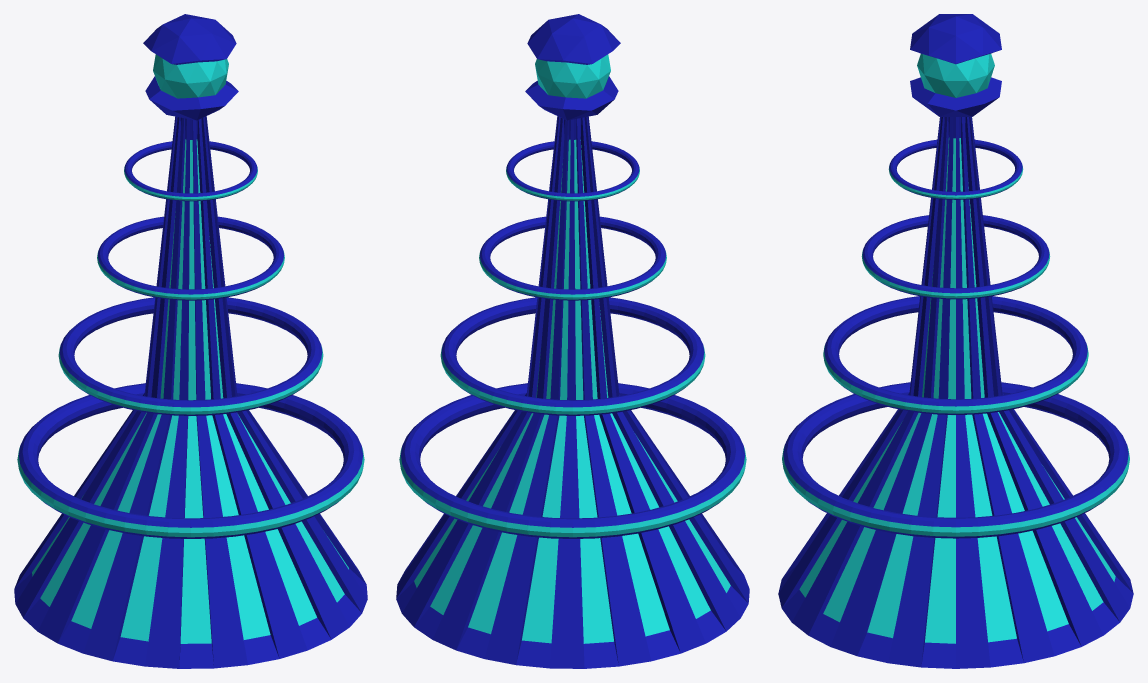
The model's file is receptor.fbx.
3 renders of one model, left to right at view 1: azimuth 30°, elevation 25°; view 2: azimuth 150°, elevation 25°; view 3: azimuth 270°, elevation 25°, orthographic.
Parts seen in each view (by area): view 1: Cone; view 2: Cone; view 3: Cone.
Part boxes in pixels (x1,y1,x2,y2): Cone: (14,14,367,668); Cone: (396,14,749,668); Cone: (778,14,1133,668).
Bounding box in the file's own units: 239 × 428 × 239.
